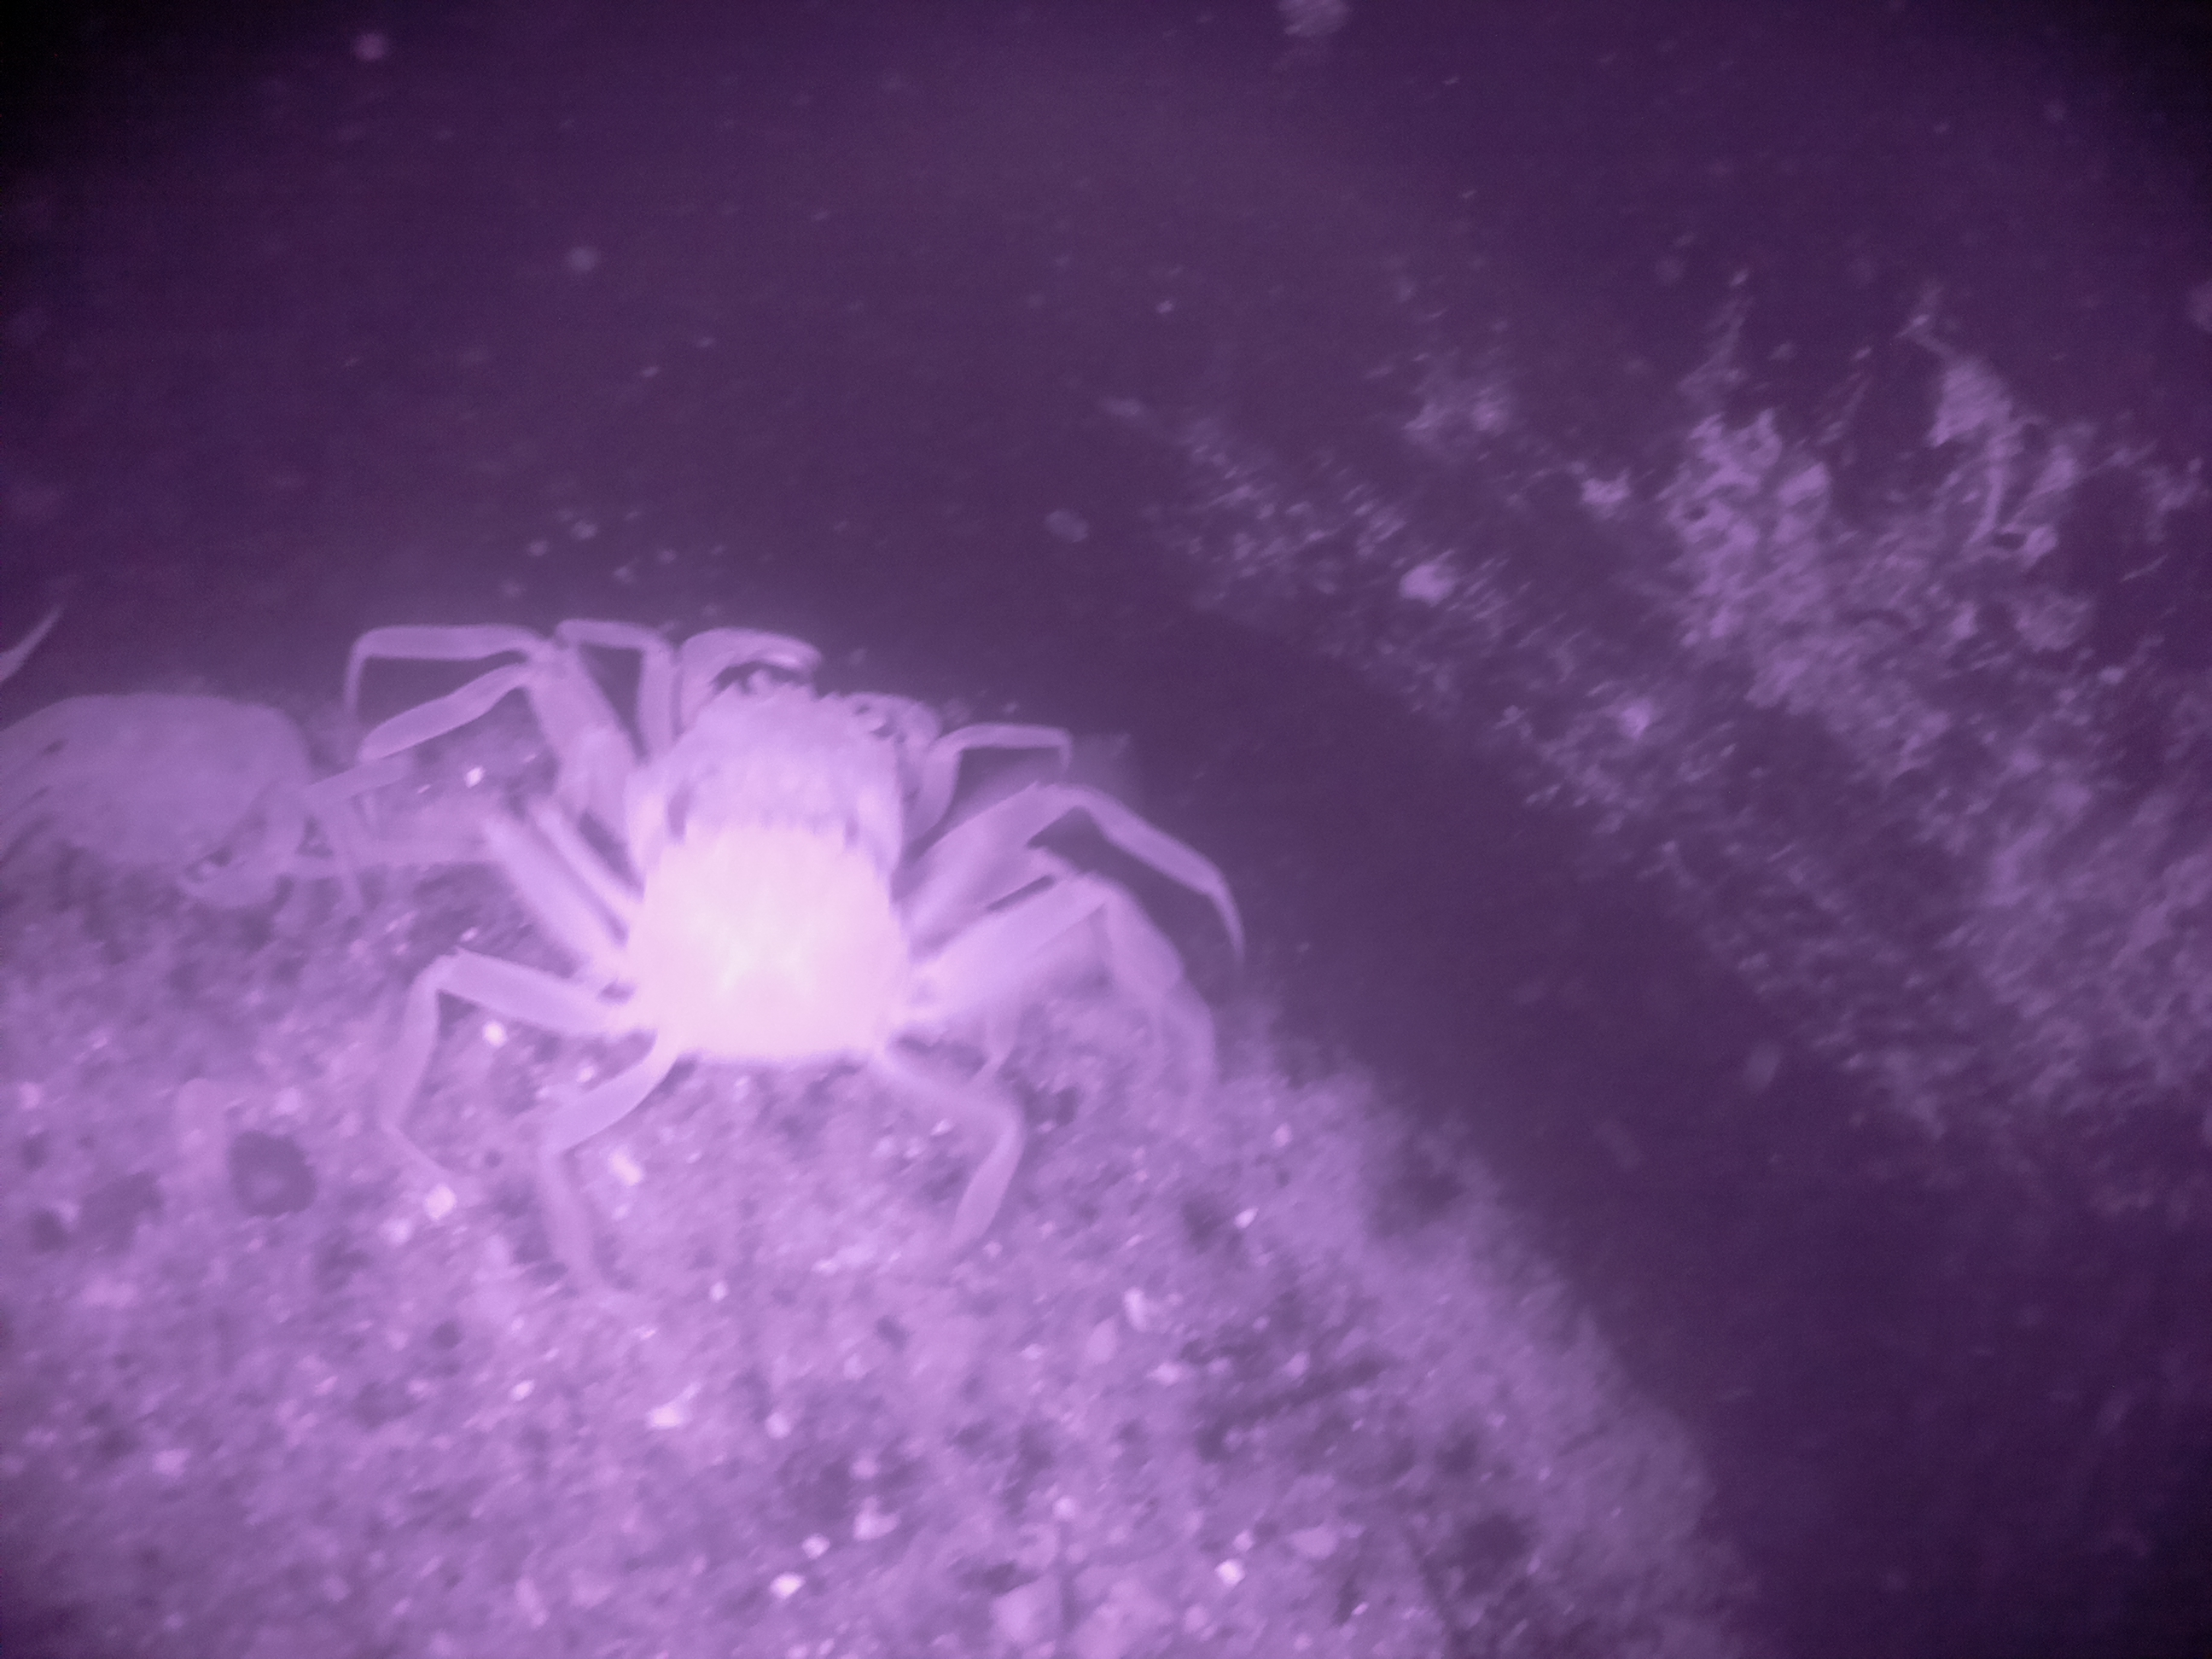Crab: (519, 714, 1015, 1209)
